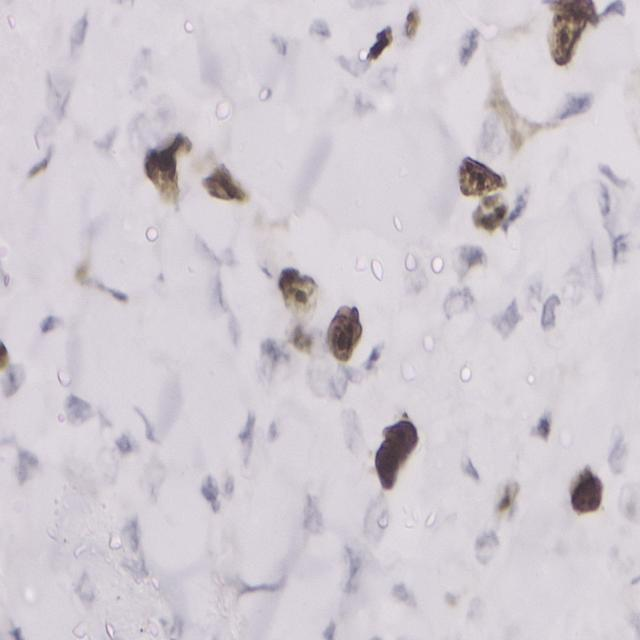Healthy cell: (317, 359, 353, 400), (259, 337, 291, 383), (469, 529, 508, 565), (492, 296, 526, 336), (460, 17, 483, 74), (306, 10, 337, 50), (550, 92, 596, 118), (0, 358, 27, 399), (66, 386, 90, 432), (458, 238, 487, 272), (446, 283, 475, 315), (200, 474, 218, 518), (366, 336, 385, 369)
cancer-cell-QiJm: (548, 0, 606, 70), (372, 416, 420, 492), (312, 296, 368, 360), (148, 130, 196, 202), (569, 459, 610, 527), (455, 150, 507, 197), (278, 262, 318, 313), (276, 320, 321, 362), (202, 162, 245, 204), (491, 473, 518, 531), (19, 150, 60, 182), (472, 194, 504, 234), (364, 22, 394, 59), (536, 409, 560, 445), (406, 2, 422, 39), (0, 330, 12, 372), (66, 263, 93, 281), (0, 264, 13, 289)
